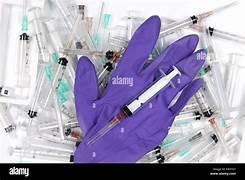Glove: (74, 16, 204, 162)
Syringe: (86, 66, 180, 144), (159, 2, 236, 37)
